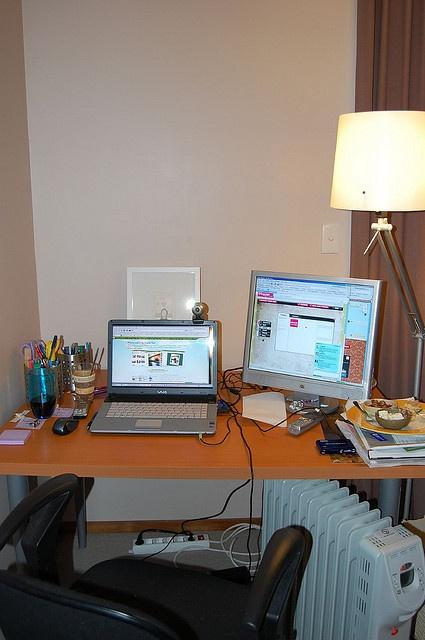AIO PC-Monitor-TV: (239, 267, 383, 403)
Kursi: (0, 472, 307, 639)
Meja: (0, 367, 424, 483)
